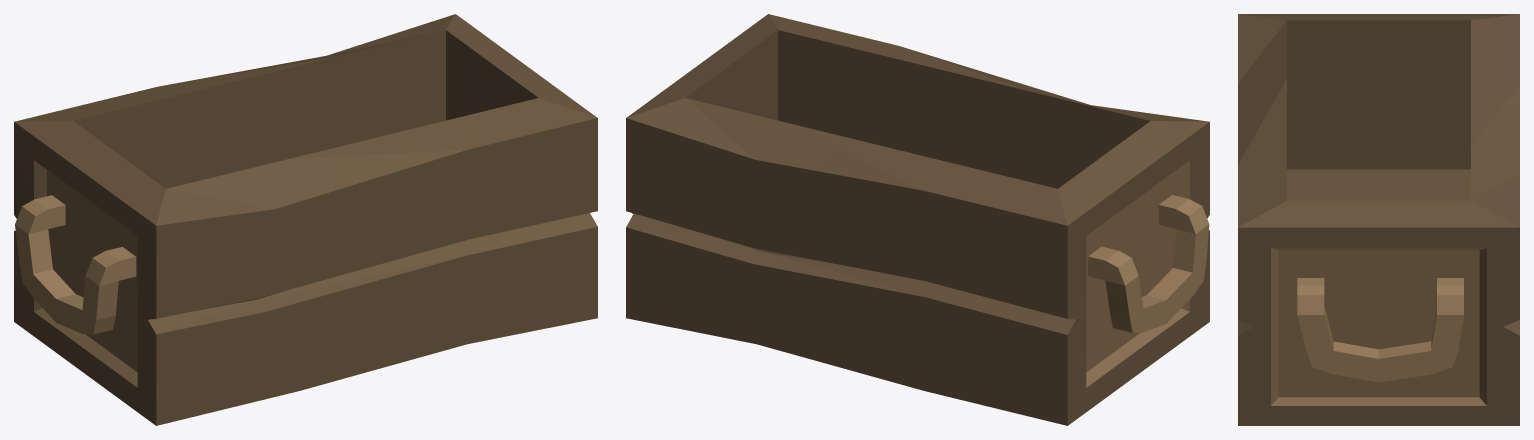
The model's file is Caja.glb.
3 renders of one model, left to right at view 1: azimuth 30°, elevation 25°; view 2: azimuth 150°, elevation 25°; view 3: azimuth 270°, elevation 25°, orthographic.
Visible parts, largest first — view 1: SM_Prop_Crate_Base_01_1; view 2: SM_Prop_Crate_Base_01_1; view 3: SM_Prop_Crate_Base_01_1.
Boxes of the visible parts, bbox=[...] form: SM_Prop_Crate_Base_01_1: bbox=[14, 14, 597, 425]; SM_Prop_Crate_Base_01_1: bbox=[626, 14, 1209, 425]; SM_Prop_Crate_Base_01_1: bbox=[1238, 14, 1519, 425].
Size of the model in its own units: 1.33 by 0.536 by 0.6557.
1 material, 1 textured.
